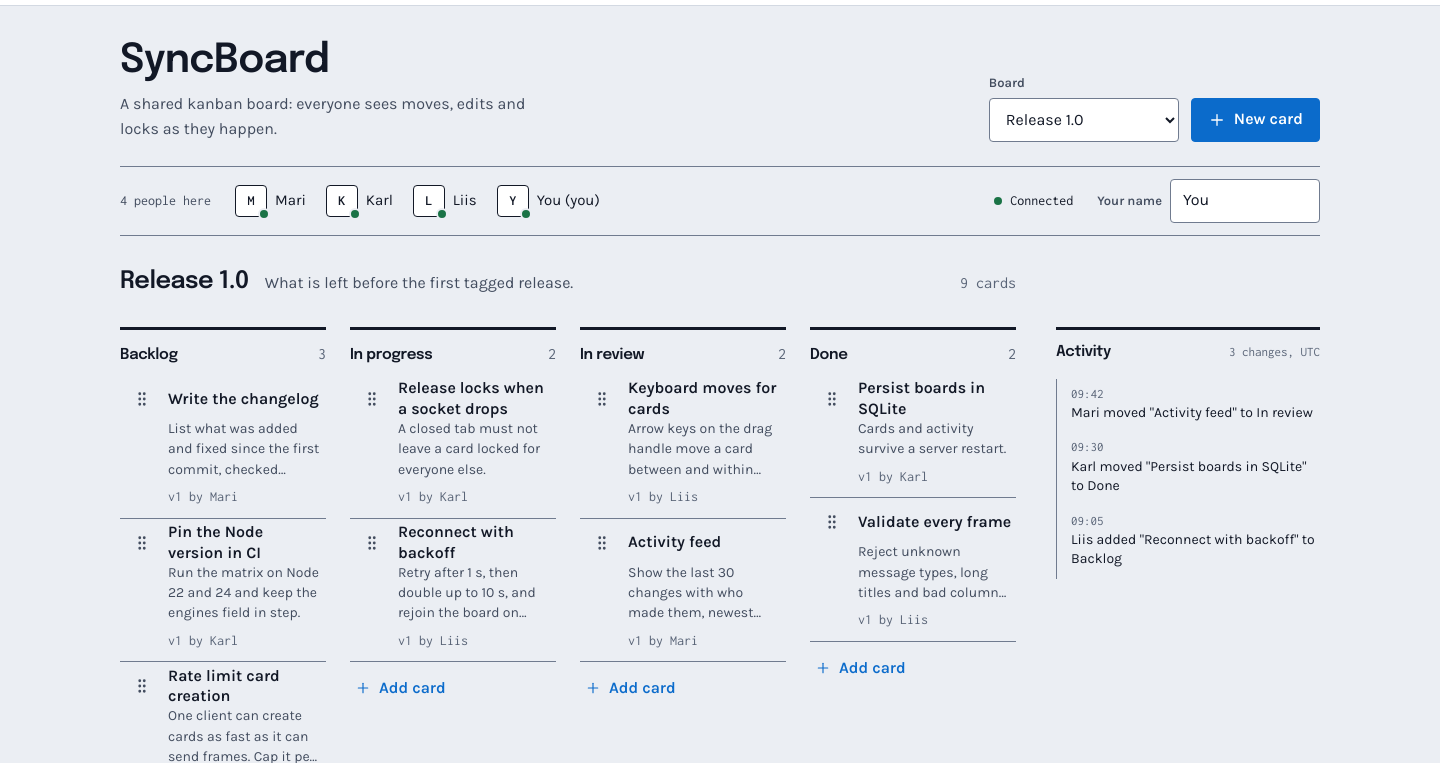
Test case: demo board › adds a card to the chosen column and lists it in the activity feed
The width and height of the screenshot is (1440, 763).
Click the button named "Add card to In review" at [630, 688], box [580,666,681,710]
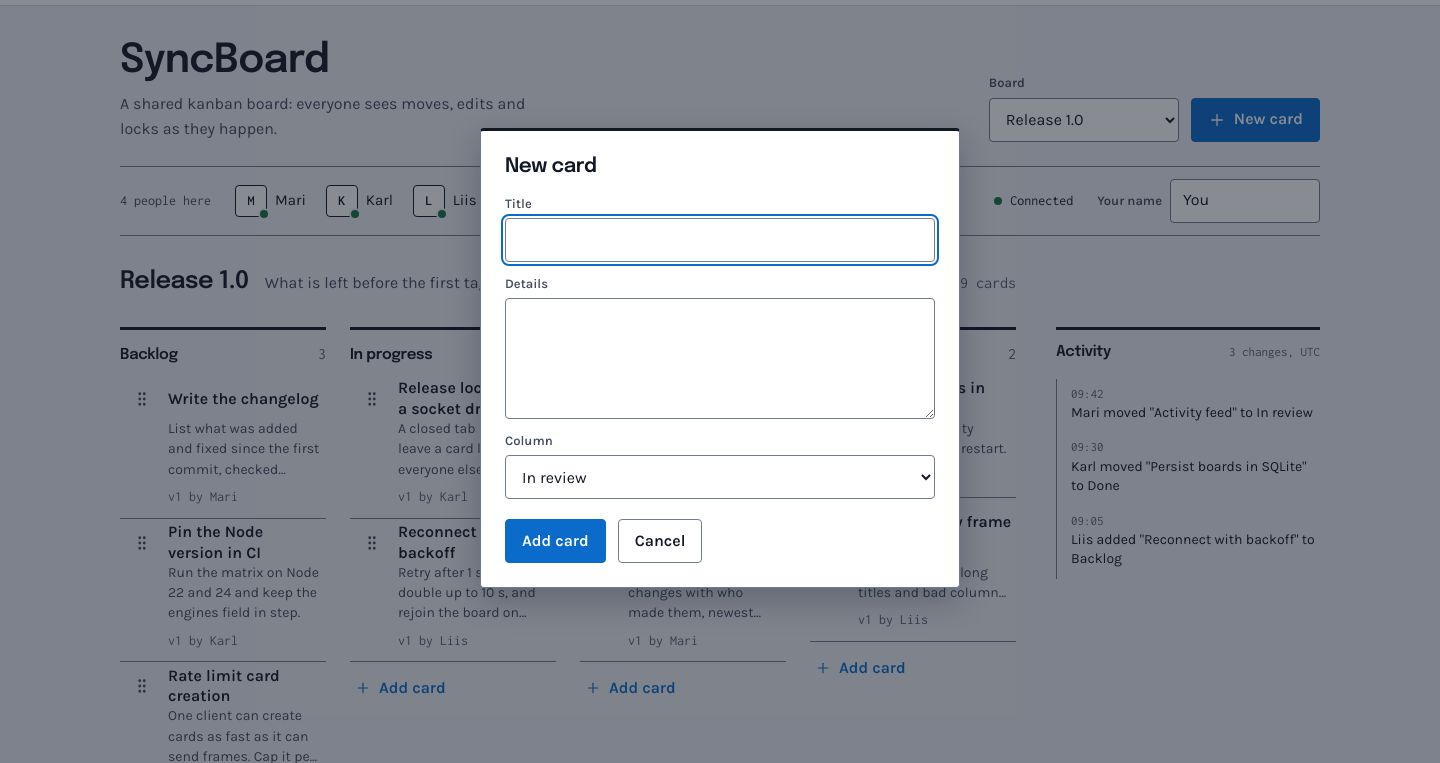
Type "Check the mobile layout" into the field labelled "Title" at [720, 240], box [505,218,935,262]
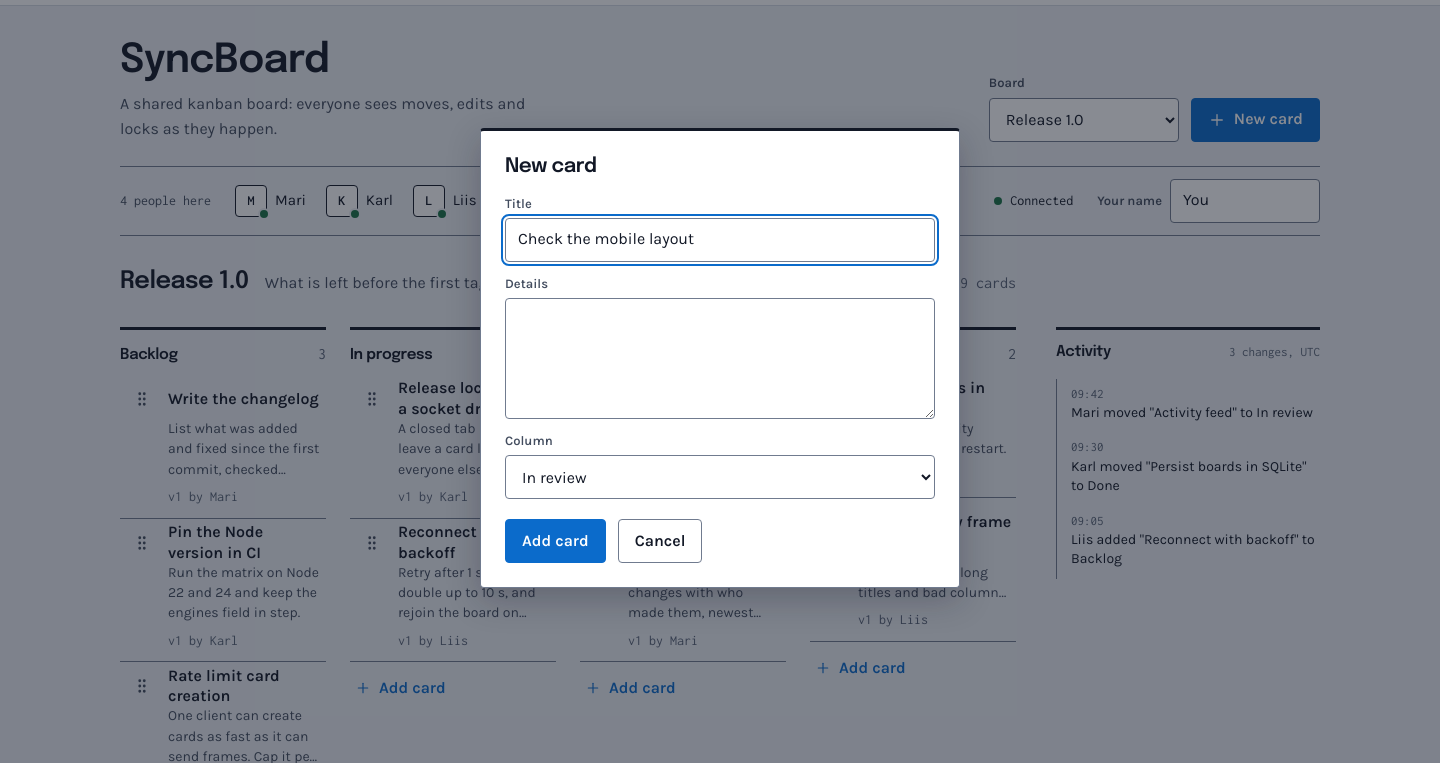
Click the button "Add card" at [555, 541], box [505,519,606,563]
(page scrolled)
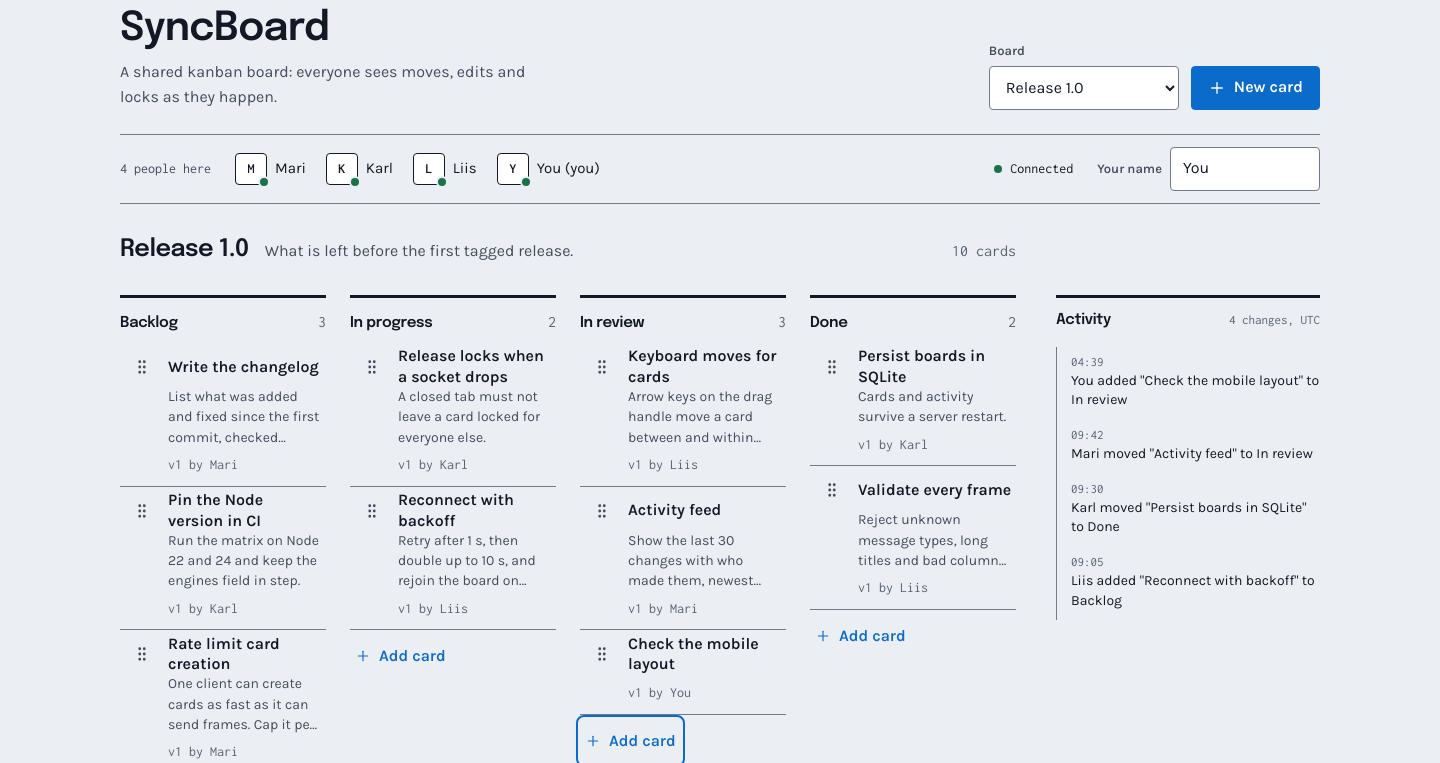
Check: the dialog is gone
Check: the button "Check the mobile layout" is shown, box [628,632,782,676]
Check: the text "You added \"Check the mobile layout\" to In review" is shown, box [1071,371,1320,410]
